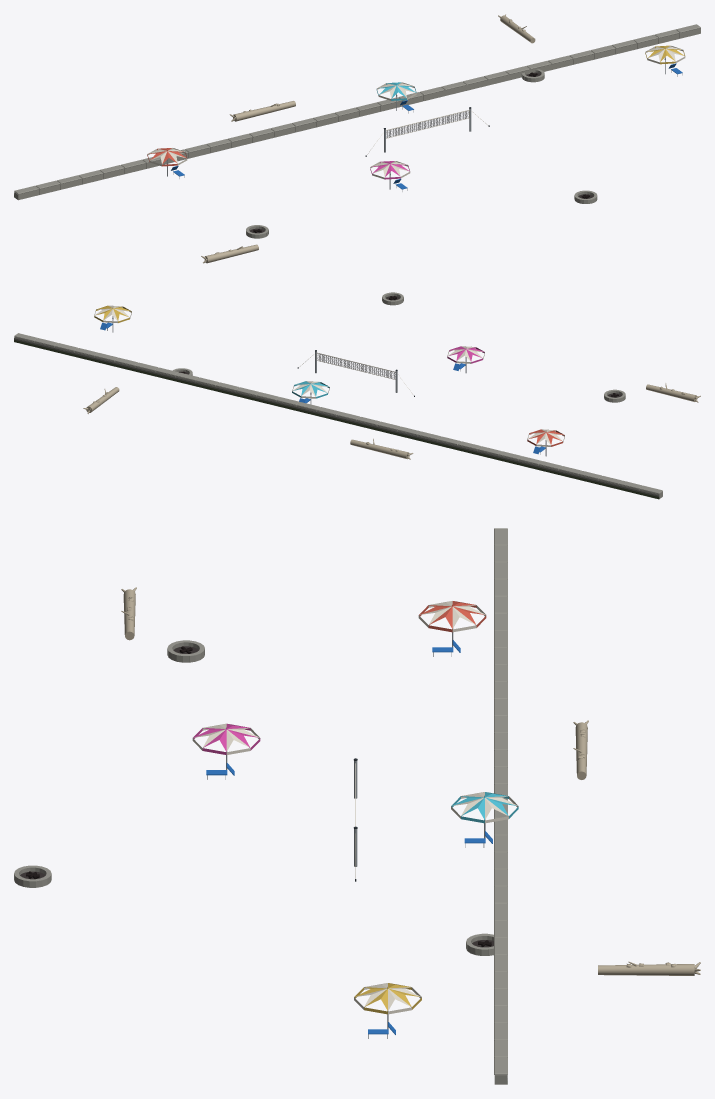
File: gb-beach.glb
The picture shows the model from 3 angles, top to bottom: view 1: azimuth 30°, elevation 25°; view 2: azimuth 150°, elevation 25°; view 3: azimuth 270°, elevation 25°; orthographic projection. The views are drawn at different scales.
Parts seen in each view (by area): view 1: gb-beach; view 2: gb-beach; view 3: gb-beach.
Boxes of the visible parts, x1,y1,x2,y2 form: gb-beach: [14, 14, 700, 263]; gb-beach: [14, 292, 700, 499]; gb-beach: [14, 528, 700, 1084].
Size of the model in its own units: 80 by 2.97 by 42.55.
